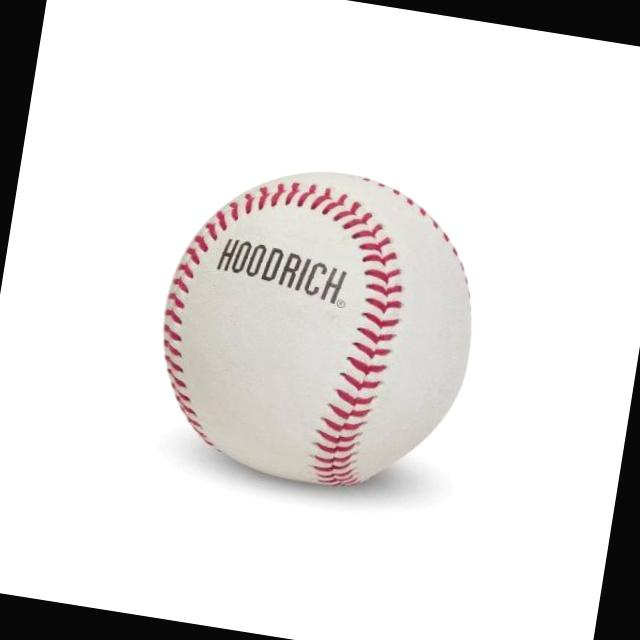ball: (137, 145, 500, 510)
